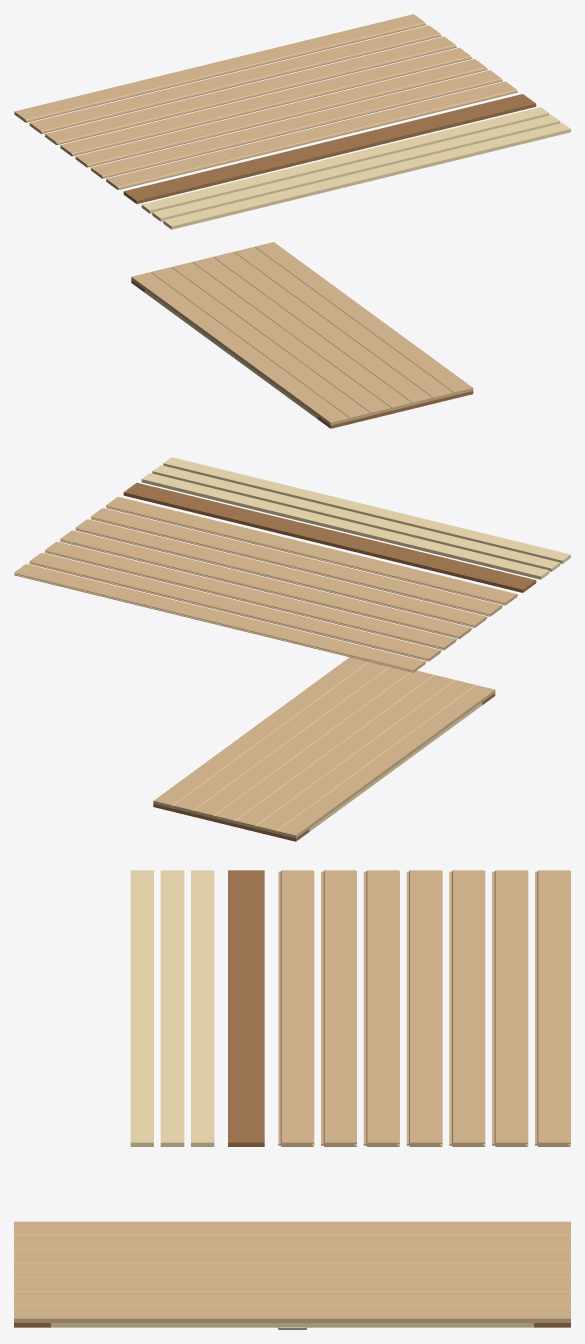
Rendered from tinker.obj.
3 views of the same model, one above another, from view 1: azimuth 30°, elevation 25°; view 2: azimuth 150°, elevation 25°; view 3: azimuth 270°, elevation 25° (orthographic). The views are drawn at different scales.
Visible parts, largest first — view 1: group_0_14860437, group_0_16311991, group_0_11107152; view 2: group_0_14860437, group_0_16311991, group_0_11107152; view 3: group_0_14860437, group_0_16311991, group_0_11107152.
Part boxes in pixels (bbox=[...]): group_0_14860437: bbox=[14, 14, 517, 425]; group_0_16311991: bbox=[141, 107, 570, 418]; group_0_11107152: bbox=[123, 94, 536, 428]; group_0_14860437: bbox=[14, 497, 517, 838]; group_0_16311991: bbox=[141, 457, 570, 831]; group_0_11107152: bbox=[123, 482, 536, 841]; group_0_14860437: bbox=[14, 870, 570, 1322]; group_0_16311991: bbox=[51, 870, 533, 1327]; group_0_11107152: bbox=[14, 870, 570, 1327].
Bounding box in the file's own units: 96 × 47.16 × 83.
